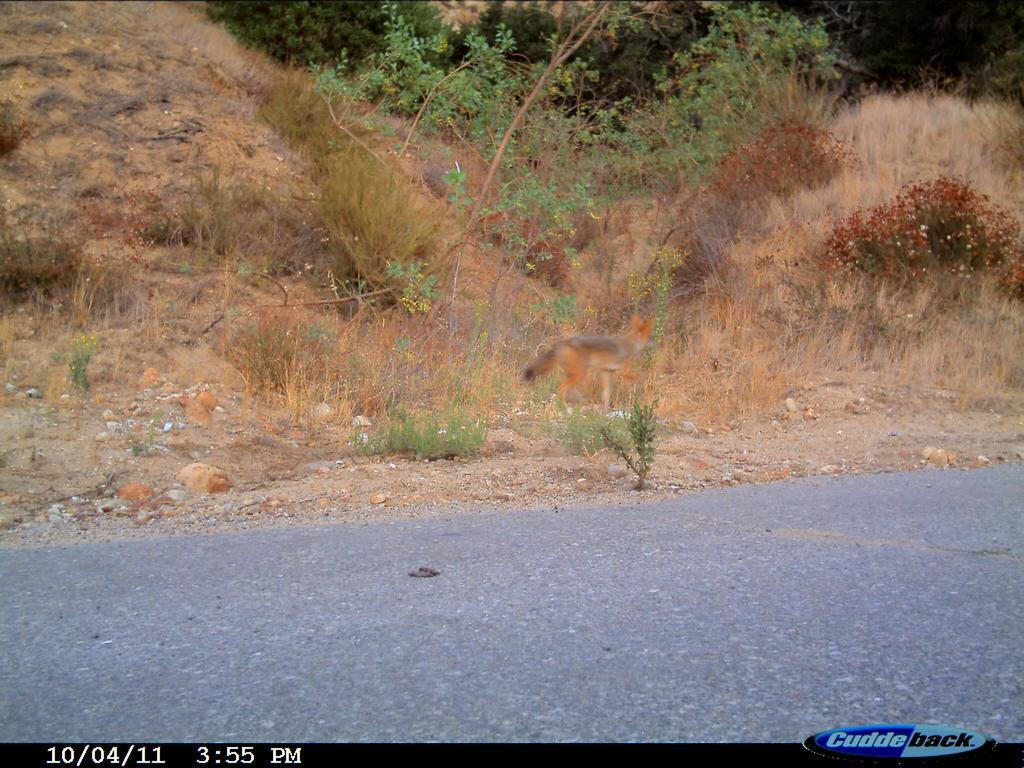coyote: (518, 308, 661, 425)
